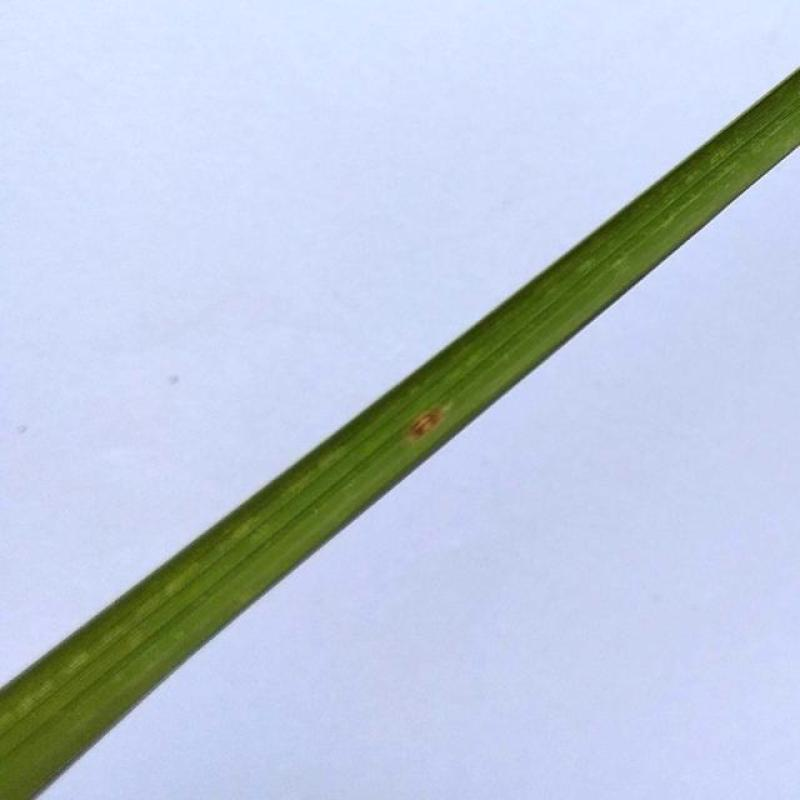Leaf_Blast: (390, 385, 466, 457)
